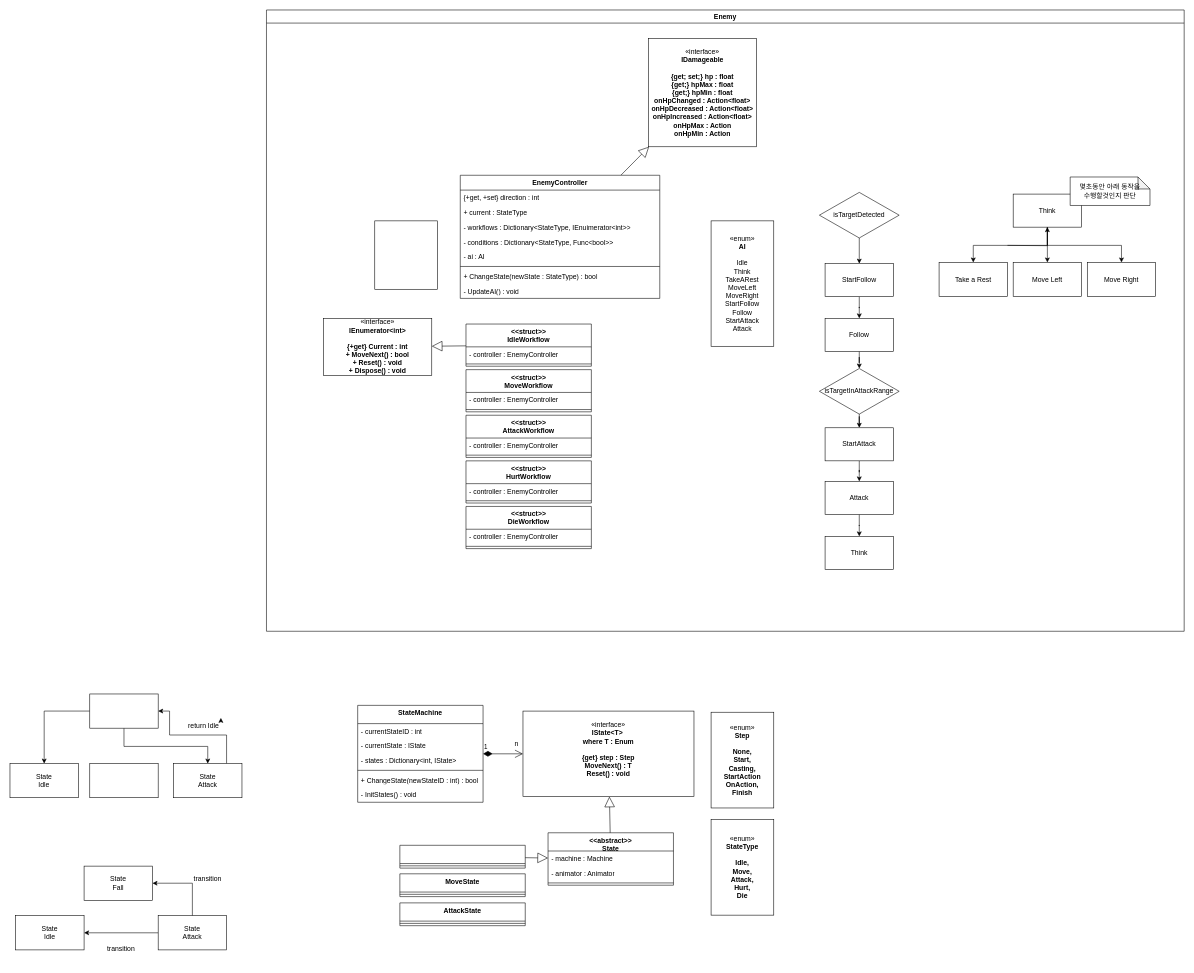
The diagram is 1194 pixels wide and 973 high, and some of its shapes have lost their labels. The centre of each missing label's shape, as x and y in pixels:
IdleState: the point at 462,856
Machine: the point at 123,710
State Move: the point at 123,780
«enum» StateType Idle Move Attack Hurt Die: the point at 405,254
